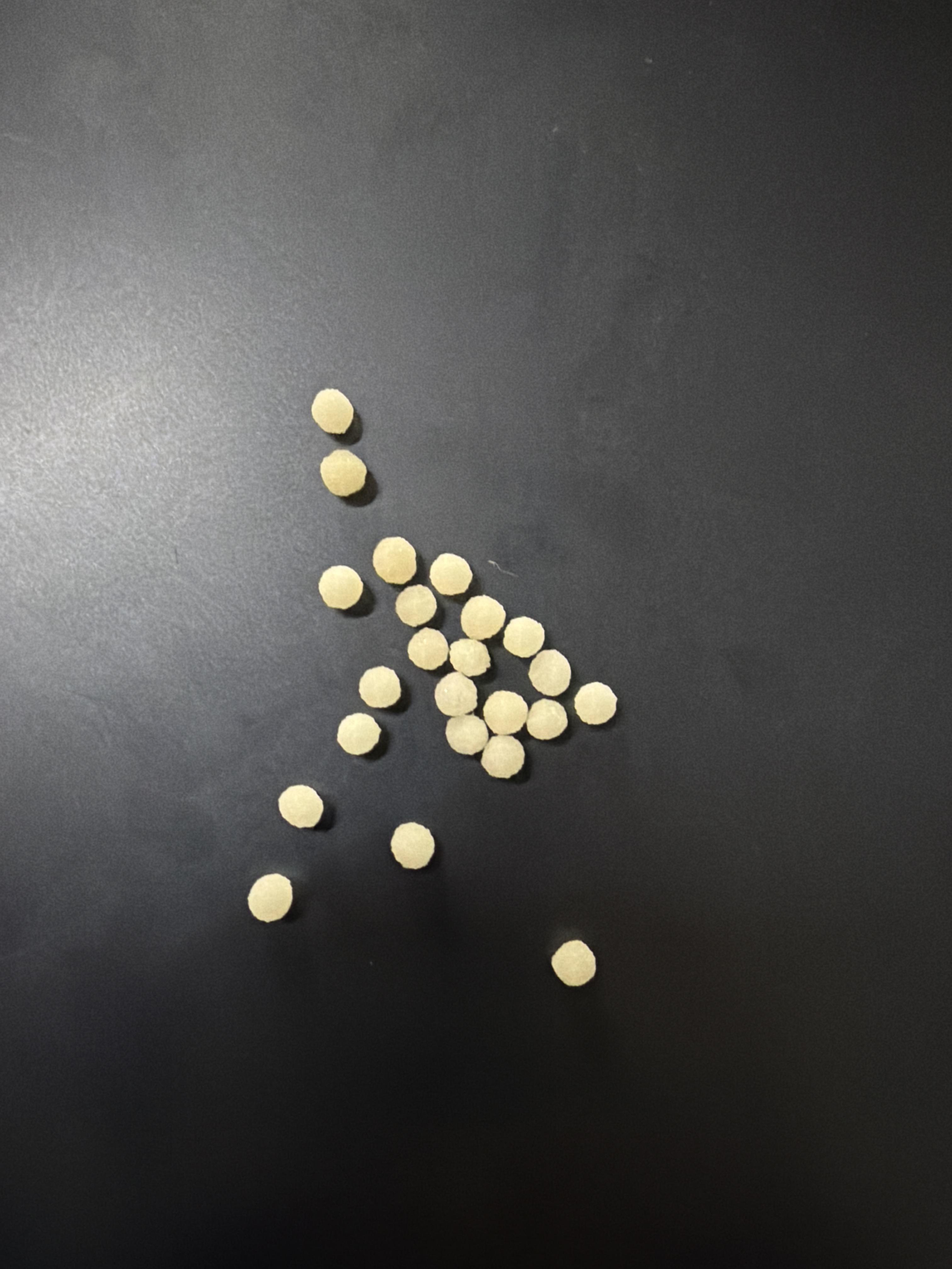pill: (320, 449, 367, 497), (372, 537, 417, 585), (248, 874, 292, 922), (551, 940, 596, 986), (460, 595, 506, 640), (391, 822, 435, 869), (318, 565, 363, 610), (528, 649, 571, 696), (311, 388, 354, 435), (483, 691, 528, 735), (278, 785, 324, 828), (434, 672, 477, 716), (574, 682, 617, 725), (445, 713, 489, 755), (337, 713, 381, 755), (481, 736, 524, 778), (358, 666, 401, 708), (429, 553, 472, 595), (407, 627, 448, 670), (395, 584, 436, 626), (526, 699, 567, 740), (503, 617, 545, 657), (450, 638, 491, 677)
